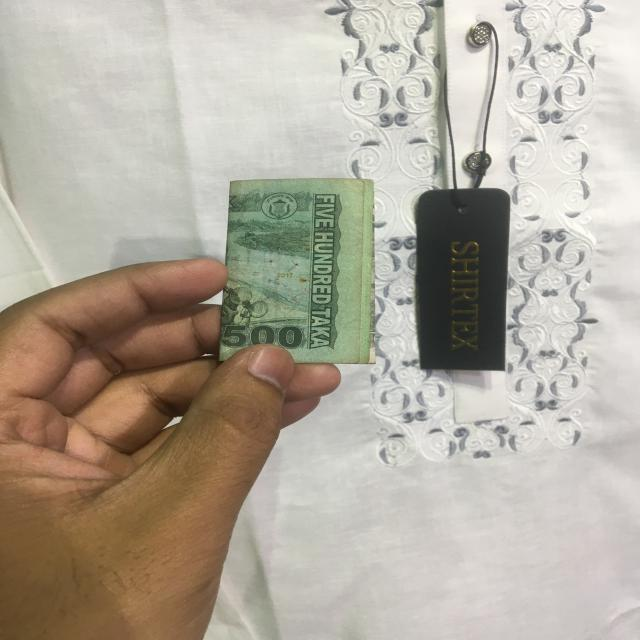Taka: (228, 178, 370, 366)
